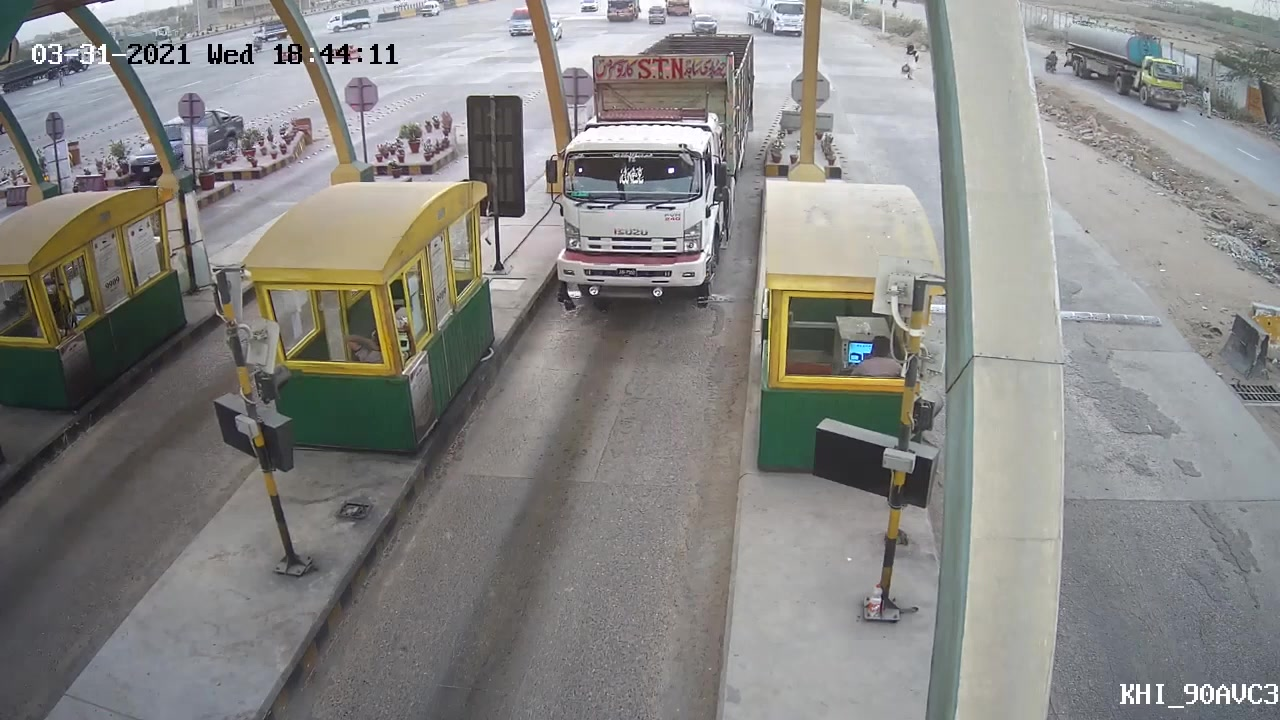F5: (530, 22, 762, 310)
